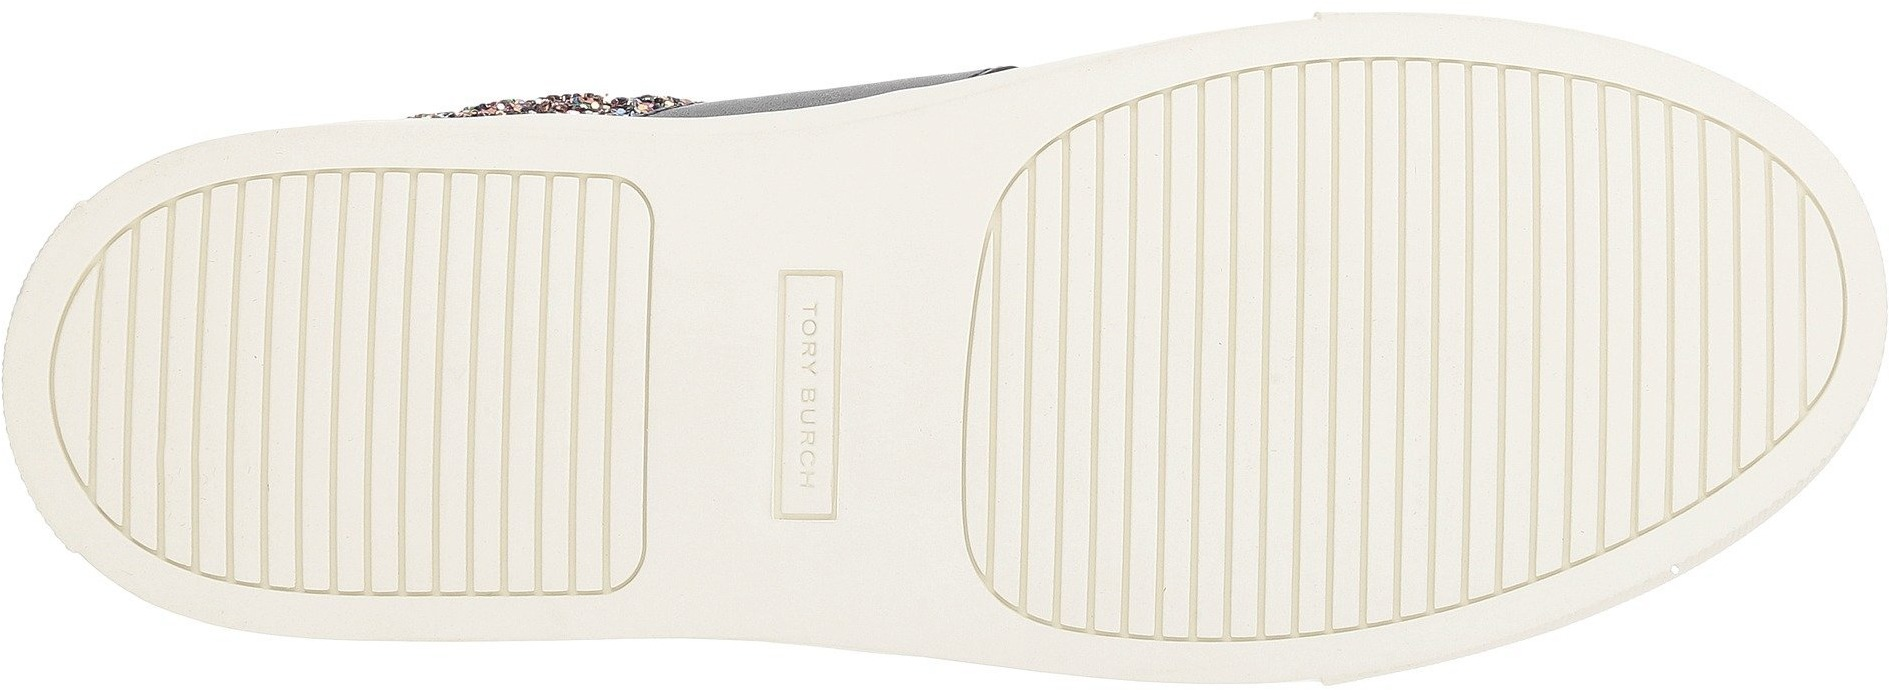other: (706, 130, 853, 267)
quad: (1522, 149, 1800, 434), (1247, 76, 1516, 368), (364, 179, 651, 441), (698, 259, 965, 535), (88, 263, 367, 525), (996, 224, 1244, 468), (1249, 375, 1466, 611), (1079, 477, 1230, 636)
text: (766, 389, 857, 470), (770, 301, 853, 383), (751, 458, 829, 539)
